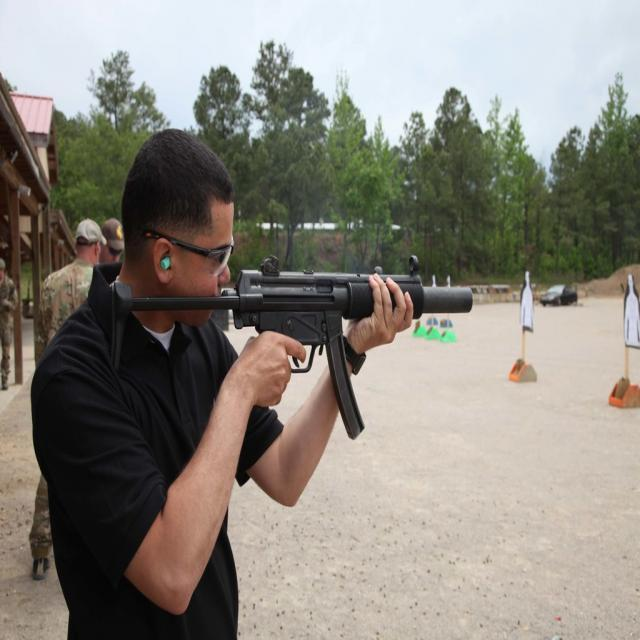weapon: (106, 250, 472, 440)
